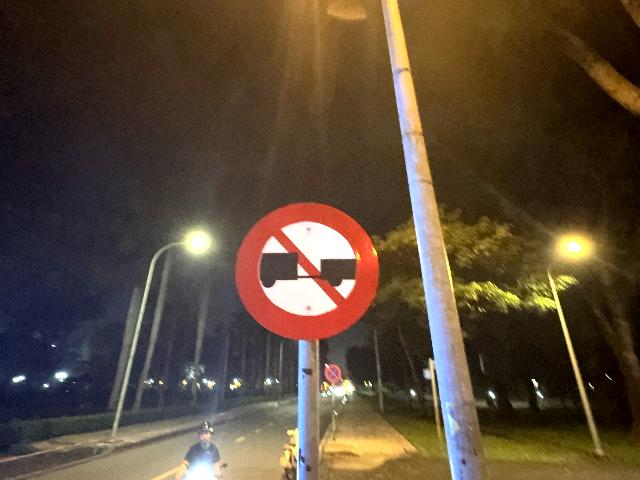cam-xe-somi-romooc: (233, 201, 381, 342)
